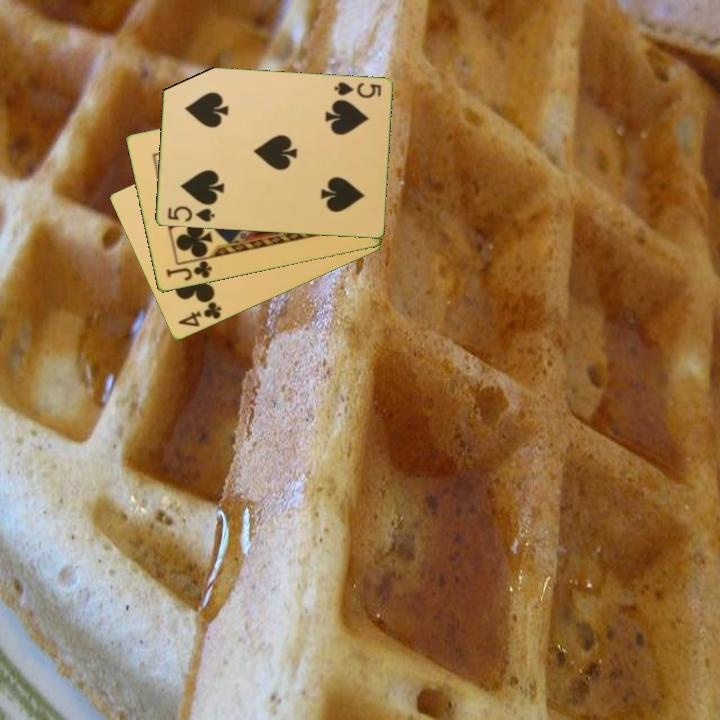4c: (174, 298, 224, 330)
5s: (330, 79, 384, 101), (164, 203, 217, 225)
Jc: (162, 257, 215, 284)
